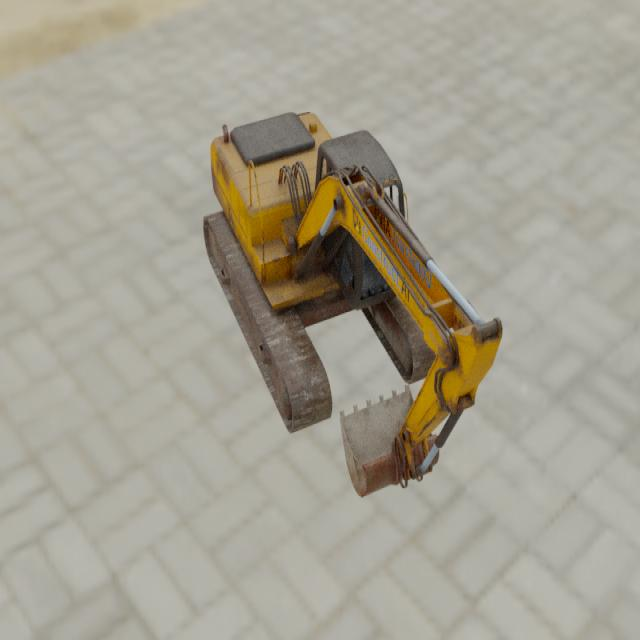excavator: (202, 111, 503, 497)
